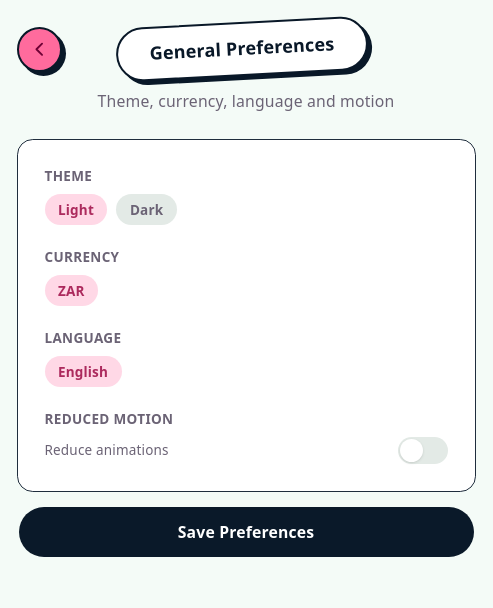
Test case: SettingsPreferencesPage › shows error feedback when the save fails
What coordinates should you click on to do the following:
click the button "Save Preferences"
I would click on:
 (246, 532)
Its box is [16,505,476,559].
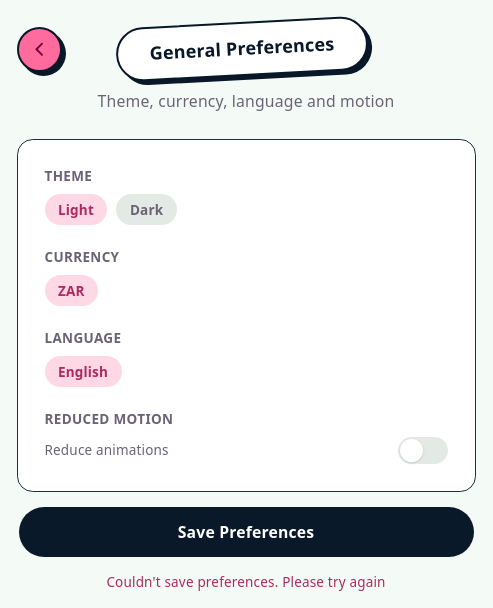
expect the text "Couldn't save preferences. Please try again" is shown: met, box [106,573,386,591]
